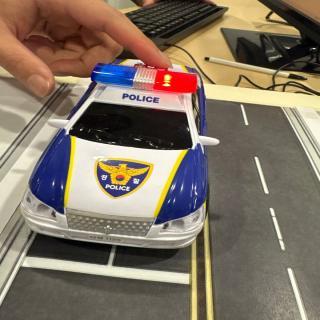Police_car: (21, 59, 219, 248)
